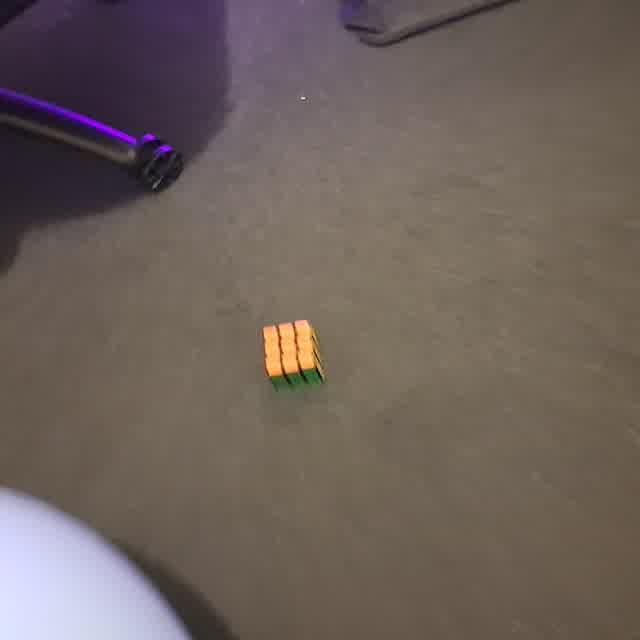rubix_cube: (259, 315, 330, 394)
